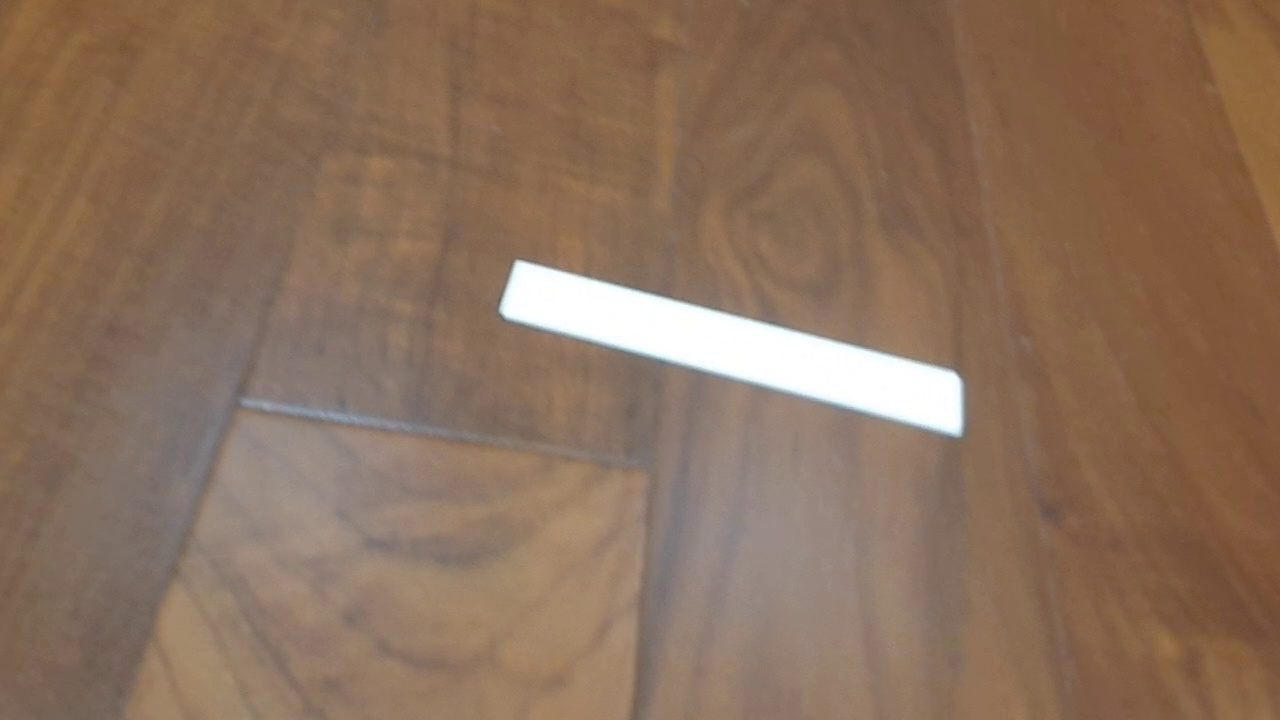ruler: (495, 257, 967, 440)
